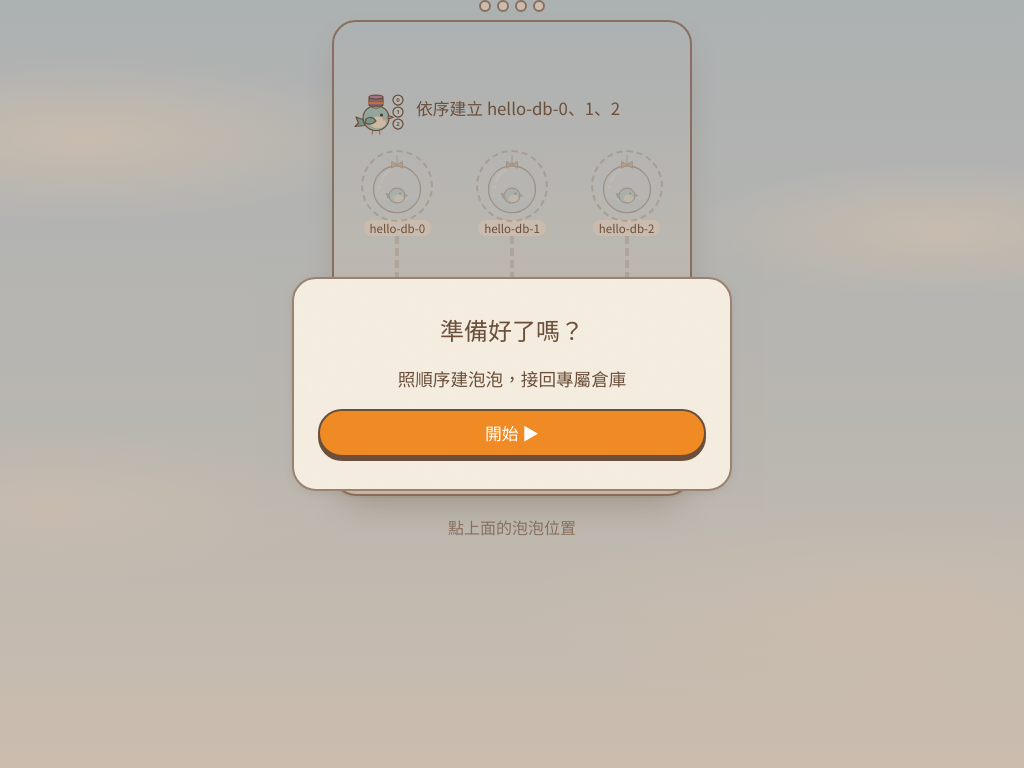
Day27Game › 跳號或前一顆還沒 Ready 就建下一顆會被拒絕
Click the button with test id "shell-start": coordinates (512, 433) [318, 409, 706, 457]
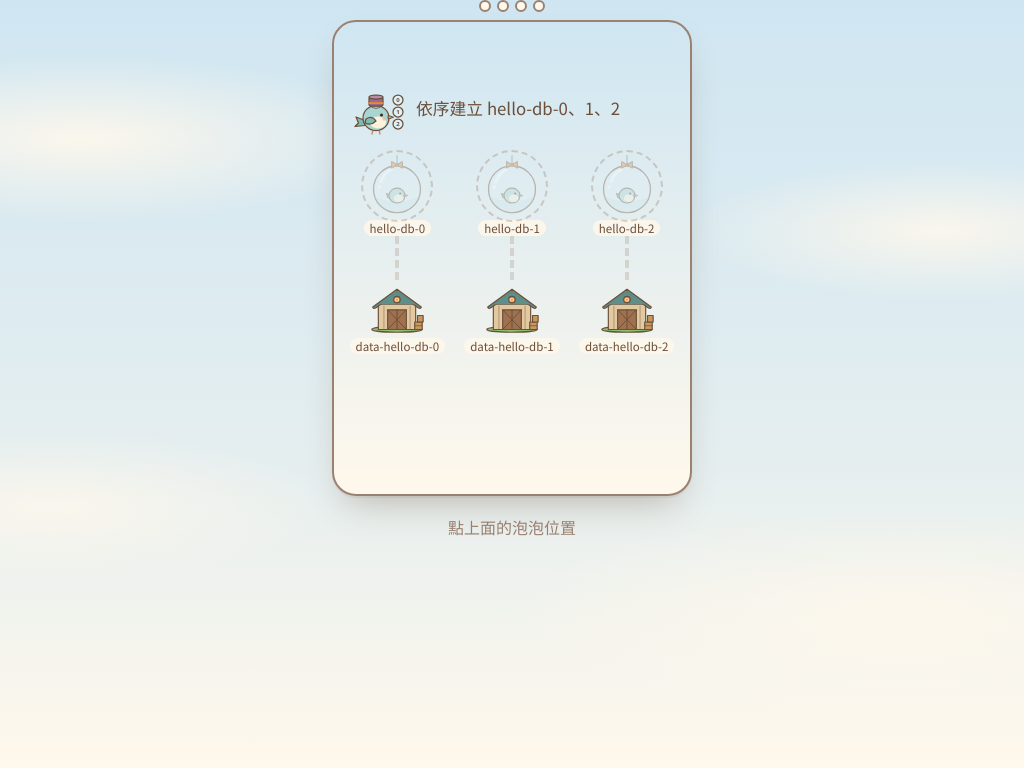
Click the button "hello-db-1": coordinates (512, 195) [478, 154, 546, 236]
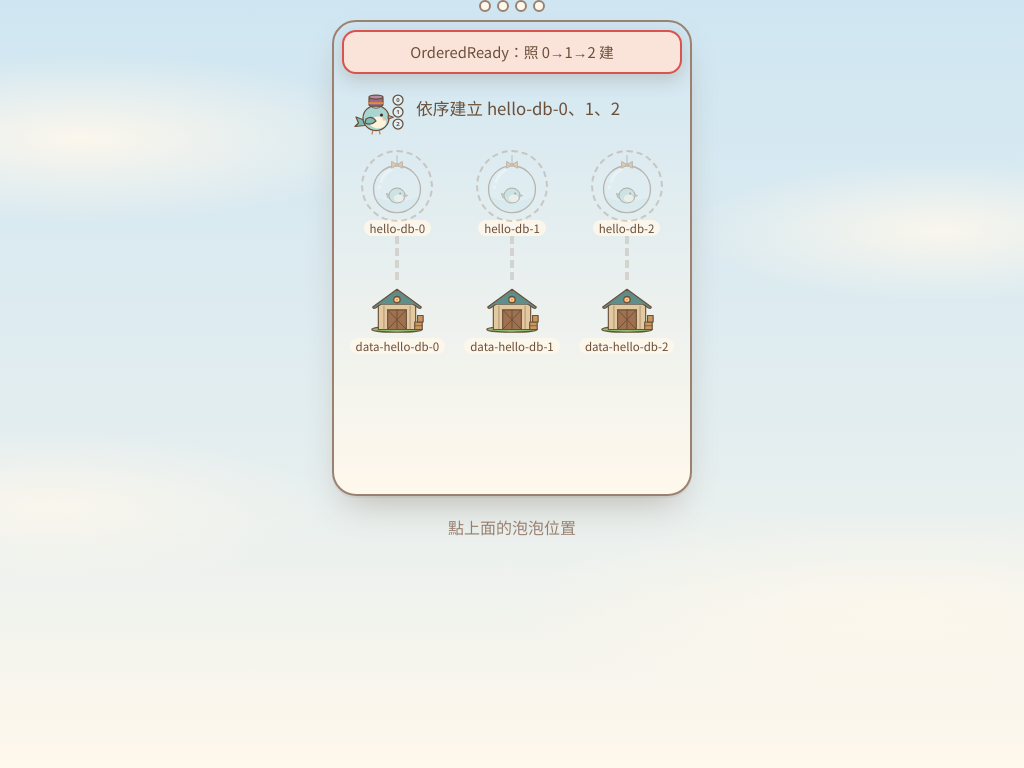
Check: the message "OrderedReady：照 0→1→2 建" is shown, box [342, 30, 682, 74]
Click the button "hello-db-0": coordinates (397, 195) [364, 154, 431, 236]
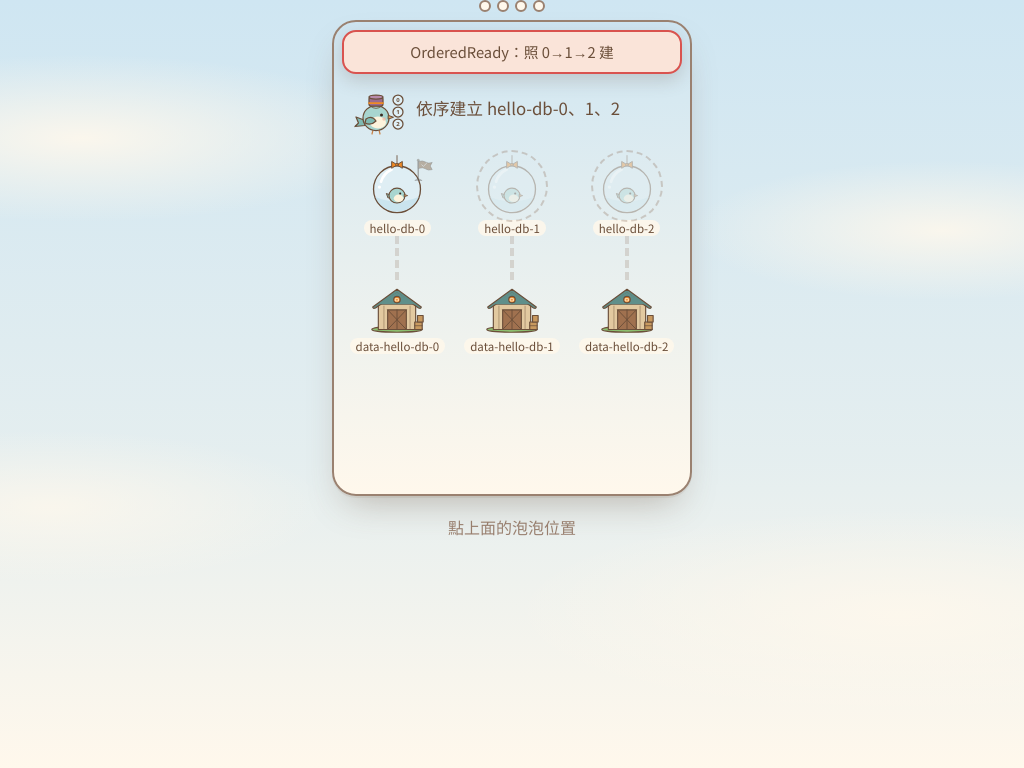
Click the button "hello-db-1": coordinates (512, 195) [478, 154, 546, 236]
Wait 500 ms
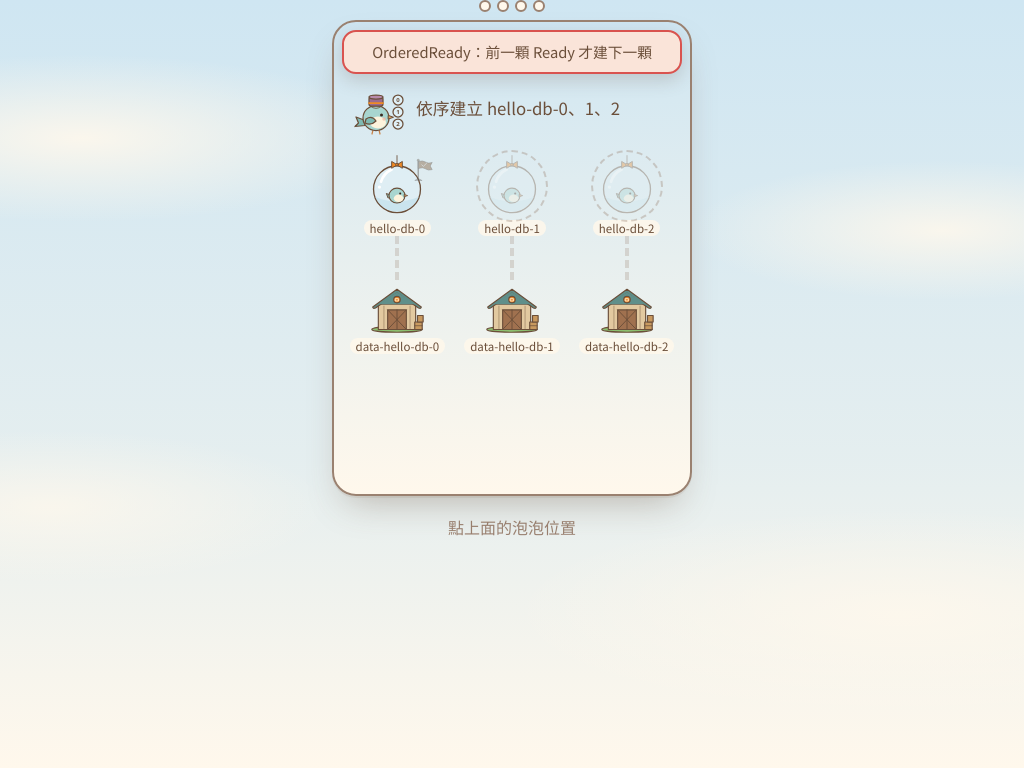
Check: the message "OrderedReady：前一顆 Ready 才建下一顆" is shown, box [342, 30, 682, 74]
